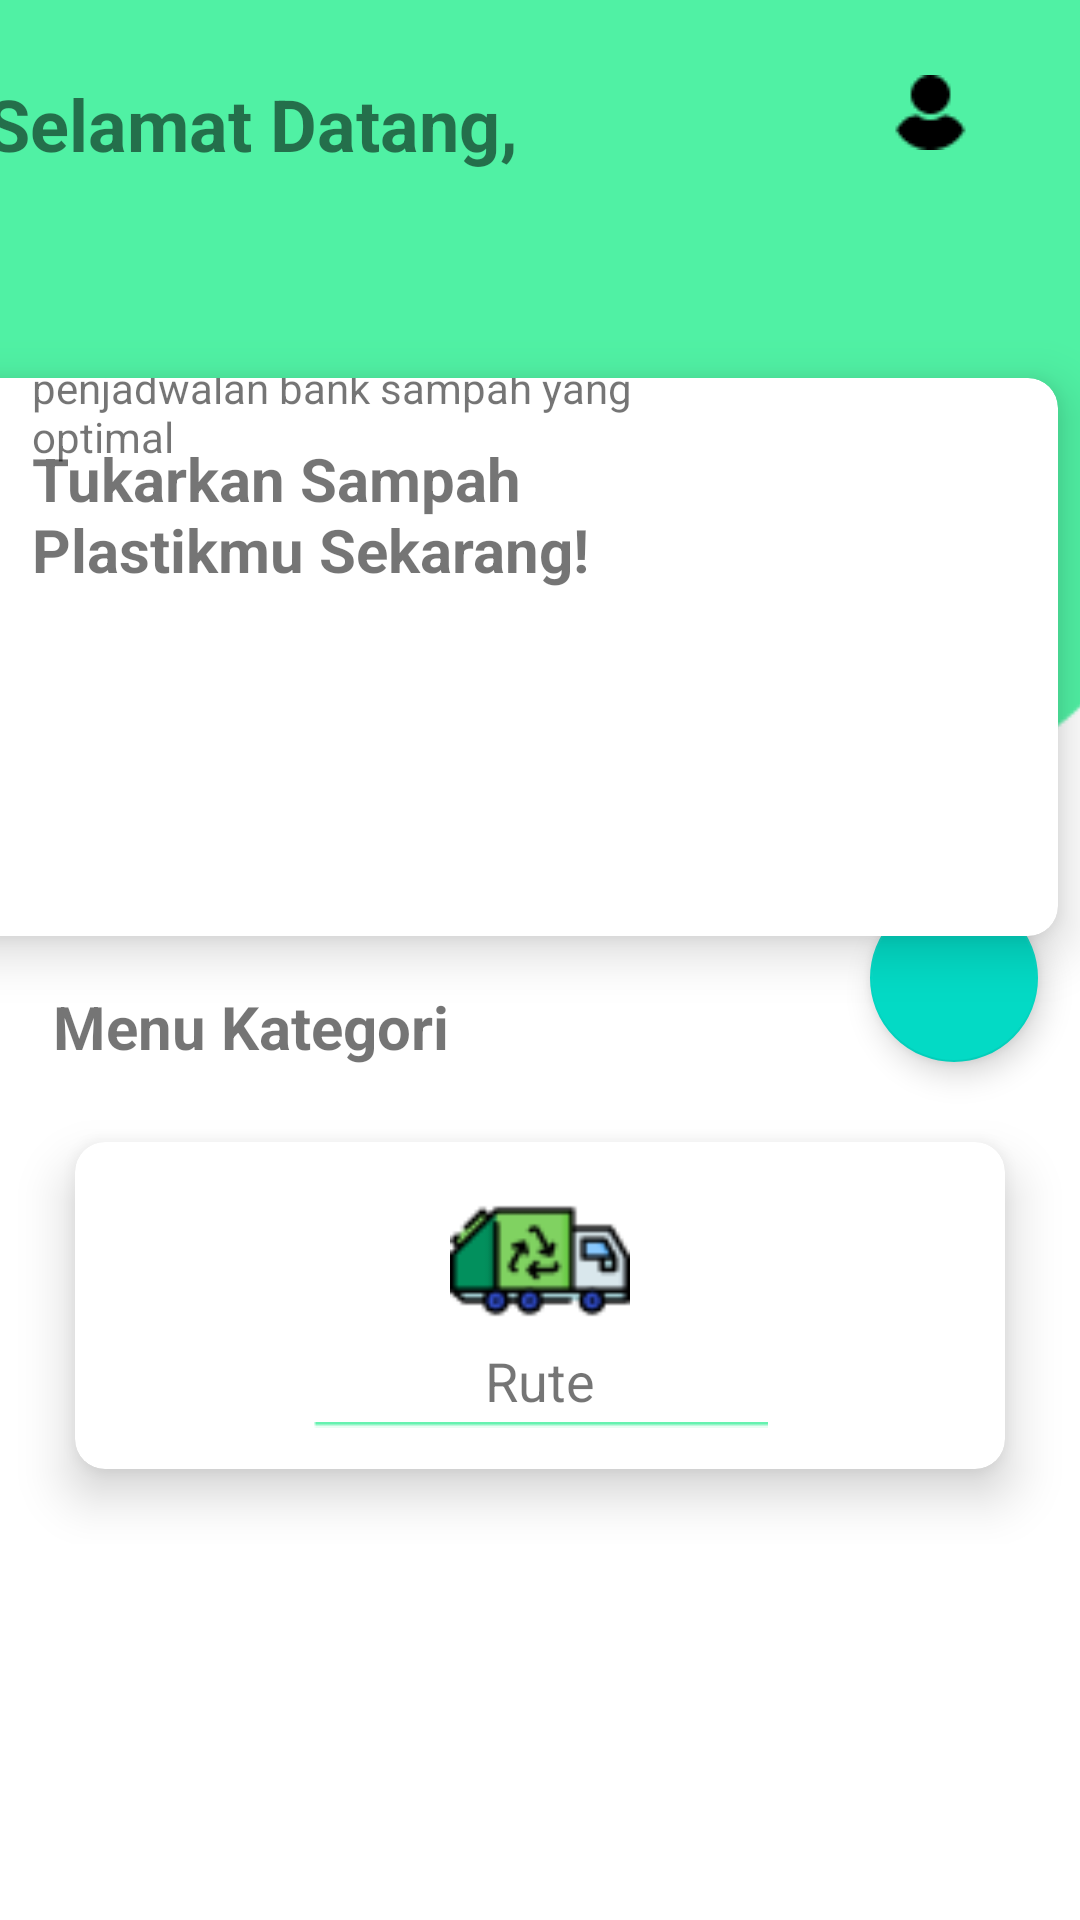

Where to tap for icons on this 1080px×1920px app screen, as [x,y]:
truck: [540,1261]
user: [930,112]
